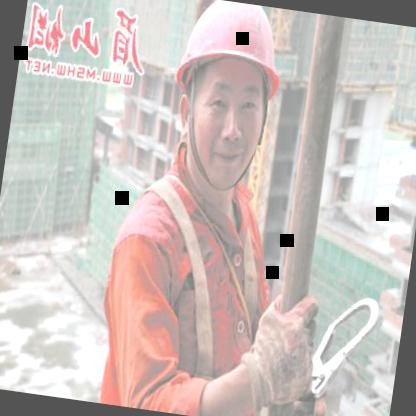helmet: (149, 0, 302, 207)
